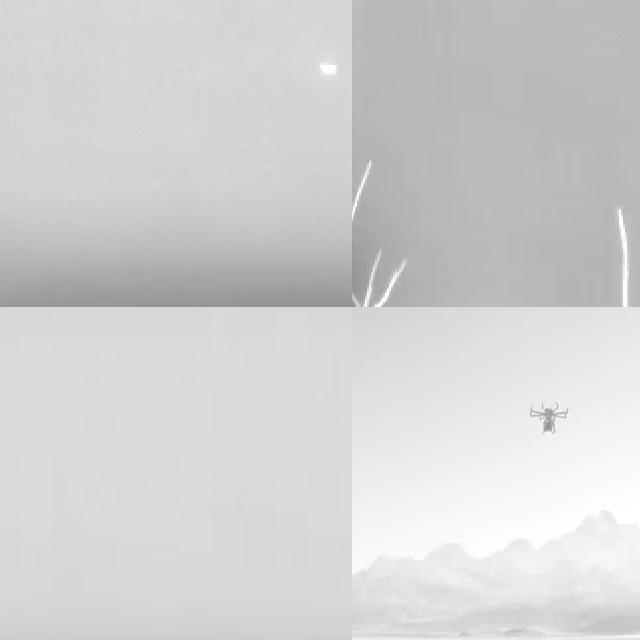0: (538, 212, 566, 242)
1: (312, 58, 348, 88)
drone: (528, 394, 570, 446)
